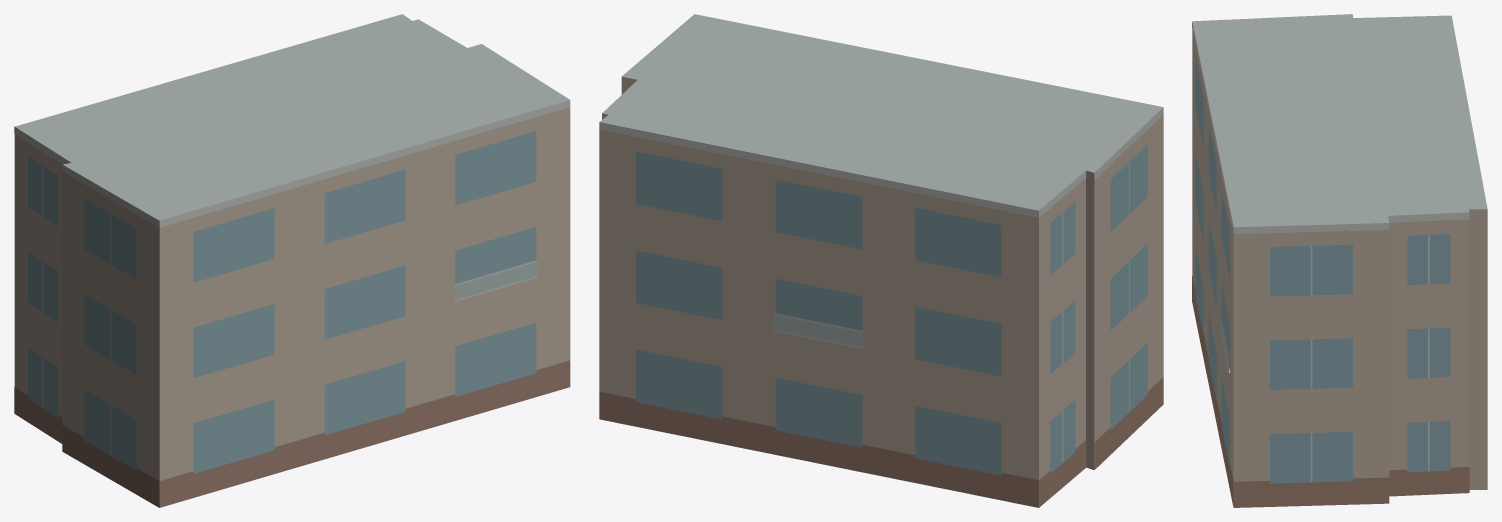
Rendered from survey-upis-32677065.glb.
3 renders of one model, left to right at view 1: azimuth 30°, elevation 25°; view 2: azimuth 150°, elevation 25°; view 3: azimuth 270°, elevation 25°, orthographic. The views are drawn at different scales.
Visible parts, largest first — view 1: survey-upis-32677065.tmp; view 2: survey-upis-32677065.tmp; view 3: survey-upis-32677065.tmp.
Boxes of the visible parts, x1,y1,x2,y2 form: survey-upis-32677065.tmp: (14,14,570,507); survey-upis-32677065.tmp: (599,14,1163,507); survey-upis-32677065.tmp: (1192,14,1487,507).
Size of the model in its own units: 16.15 by 9.9 by 9.46.
